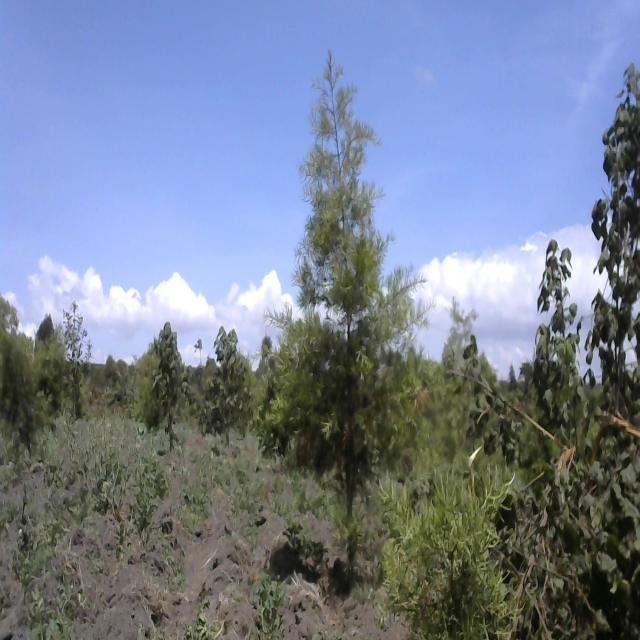Podocarpus falcatus: (264, 53, 414, 500), (378, 471, 506, 639), (0, 311, 40, 449), (33, 331, 70, 416)
Polyscias fulva: (200, 323, 245, 436), (146, 322, 179, 432)
other: (534, 76, 640, 586)
